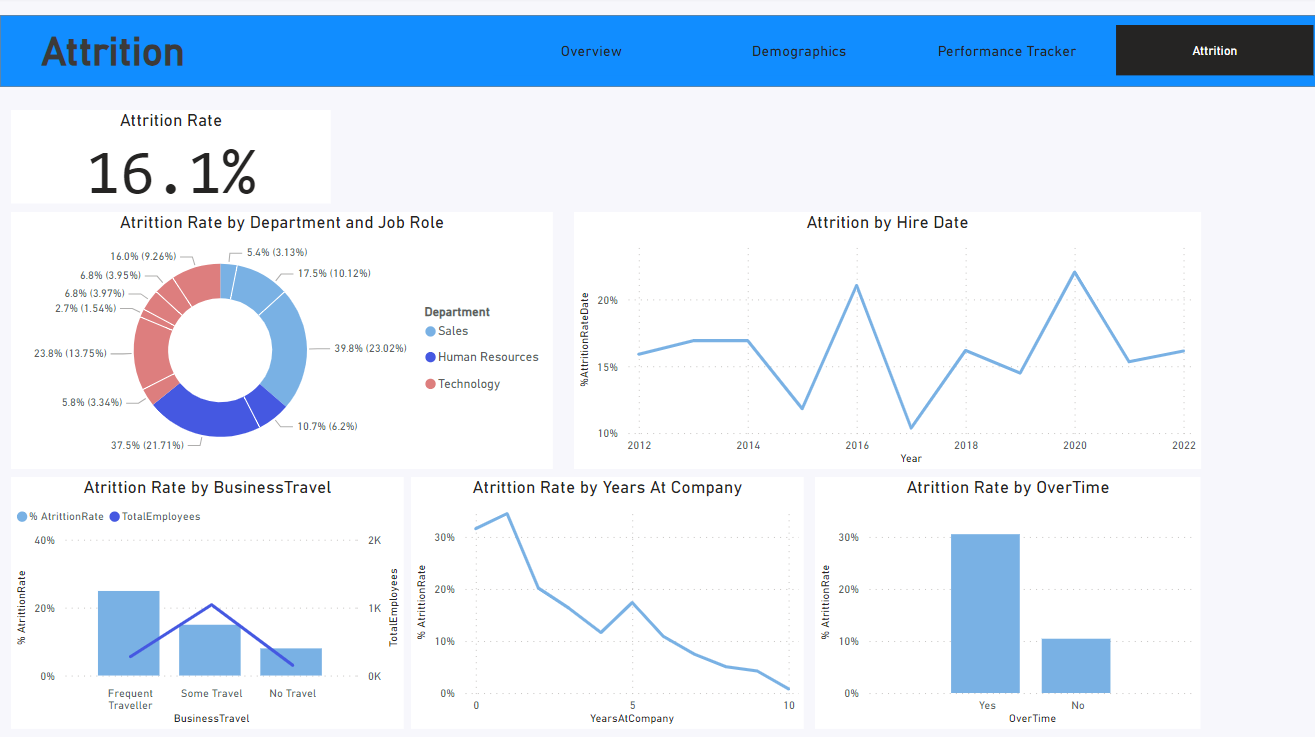

Layout of this report page (visuals, bound fields, positions):
{"tool":"powerbi","page":{"name":"Attrition","canvas":[1280,720],"ordinal":3},"visuals":[{"type":"card","title":"Attrition Rate","fields":{"Values":["_Measures.% AtrittionRate"]},"box":[10.7,109.9,311.2,91.4],"z":0},{"type":"donutChart","title":"Atrittion Rate by Department and Job Role","fields":{"Category":["DimEmployee.Department"],"Series":["DimEmployee.JobRole"],"Y":["_Measures.% AtrittionRate"]},"box":[10.7,209.1,527.2,250],"z":1000},{"type":"lineChart","title":"Attrition by Hire Date","fields":{"Y":["_Measures.%AttritionRateDate"],"Category":["DimDate.Year"]},"box":[558.3,209.1,609.8,250],"z":2000},{"type":"lineClusteredColumnComboChart","title":"Atrittion Rate by BusinessTravel","fields":{"Category":["DimEmployee.BusinessTravel"],"Y":["_Measures.% AtrittionRate"],"Y2":["_Measures.TotalEmployees"]},"box":[10.7,466.9,382.2,245.1],"z":3000},{"type":"lineClusteredColumnComboChart","title":"Atrittion Rate by OverTime","fields":{"Category":["DimEmployee.OverTime"],"Y":["_Measures.% AtrittionRate"]},"box":[792.7,466.9,375.4,245.1],"z":4000},{"type":"lineChart","title":"Atrittion Rate by Years At Company","fields":{"Category":["DimEmployee.YearsAtCompany"],"Y":["_Measures.% AtrittionRate"]},"box":[399.8,466.9,382.2,245.1],"z":5000},{"type":"shape","box":[0,17.5,1280,70],"z":6000},{"type":"textbox","box":[35,25.3,299.6,54.5],"z":7000},{"type":"pageNavigator","box":[479.5,27.2,800.5,49.6],"z":7001}]}

Visuals, with their boxes in screenshot pixels (x1, y1, x2, y2), scaled from the page's 1280x720 canvas onto the 1315x737 screenshot:
"Attrition Rate" card: left=11, top=112, right=331, bottom=206
"Atrittion Rate by Department and Job Role" donutChart: left=11, top=214, right=553, bottom=470
"Attrition by Hire Date" lineChart: left=574, top=214, right=1200, bottom=470
"Atrittion Rate by BusinessTravel" lineClusteredColumnComboChart: left=11, top=478, right=404, bottom=729
"Atrittion Rate by OverTime" lineClusteredColumnComboChart: left=814, top=478, right=1200, bottom=729
"Atrittion Rate by Years At Company" lineChart: left=411, top=478, right=803, bottom=729
shape: left=0, top=18, right=1314, bottom=90
textbox: left=36, top=26, right=344, bottom=82
pageNavigator: left=493, top=28, right=1314, bottom=79
